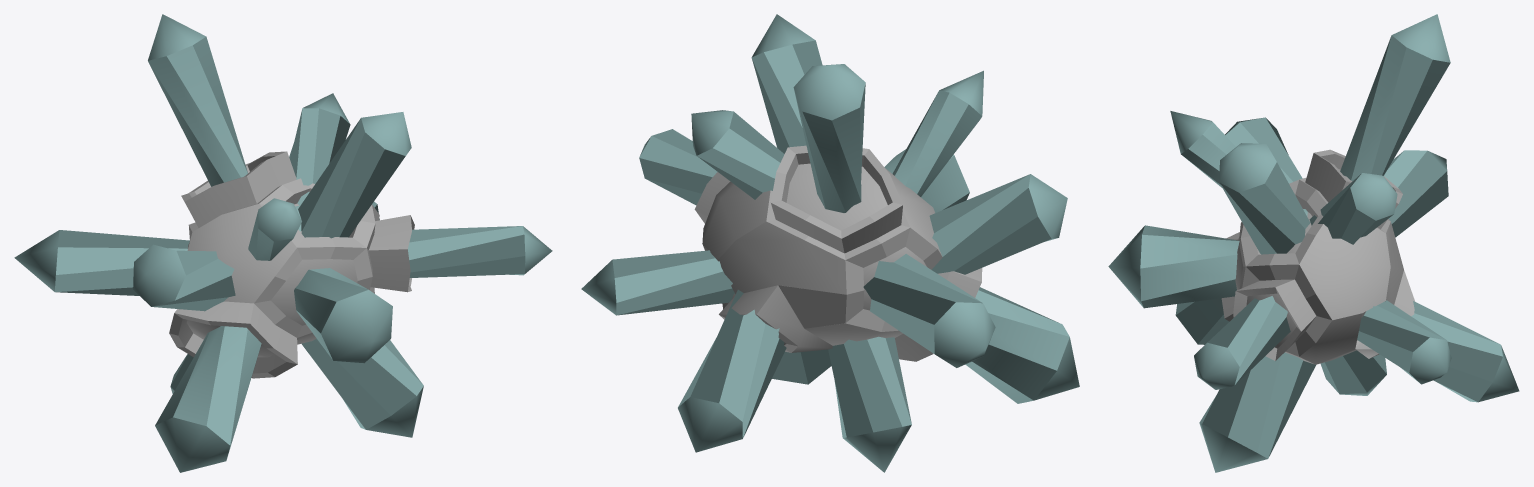
File: GBE_AsteroidCluster_01_proxy.fbx
3 views of the same model, side by side, from view 1: azimuth 30°, elevation 25°; view 2: azimuth 150°, elevation 25°; view 3: azimuth 270°, elevation 25° (orthographic). The views are drawn at different scales.
Parts seen in each view (by area): view 1: GBE_Crystalsl_proxy, GBE_AsteroidSmall_proxy; view 2: GBE_Crystalsl_proxy, GBE_AsteroidSmall_proxy; view 3: GBE_Crystalsl_proxy, GBE_AsteroidSmall_proxy.
Part boxes in pixels (x1,y1,x2,y2): GBE_Crystalsl_proxy: (14, 14, 552, 472); GBE_AsteroidSmall_proxy: (169, 151, 414, 378); GBE_Crystalsl_proxy: (581, 14, 1079, 472); GBE_AsteroidSmall_proxy: (694, 145, 982, 361); GBE_Crystalsl_proxy: (1108, 14, 1519, 472); GBE_AsteroidSmall_proxy: (1221, 149, 1414, 364).
Bounding box in the file's own units: 563 × 487 × 466.
